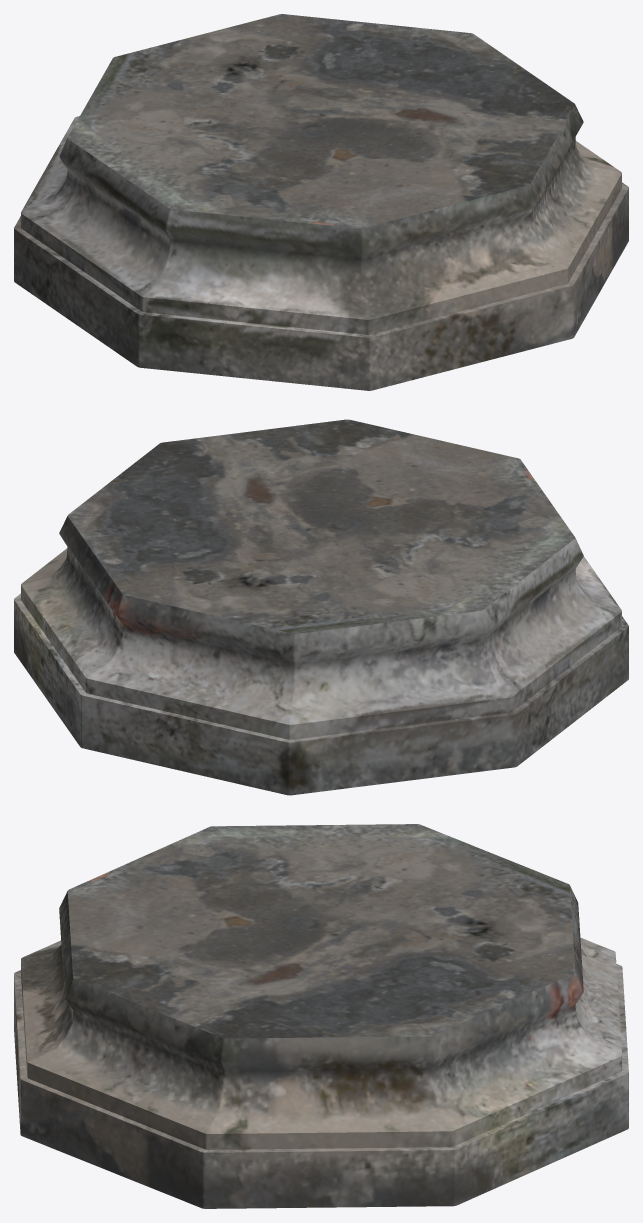
The model's file is SM_ChapelColumnBase_01_02.fbx.
3 renders of one model, top to bottom at view 1: azimuth 30°, elevation 25°; view 2: azimuth 150°, elevation 25°; view 3: azimuth 270°, elevation 25°, orthographic. The views are drawn at different scales.
Parts seen in each view (by area): view 1: sm_ChapelColumnBase_01_02_LOD0; view 2: sm_ChapelColumnBase_01_02_LOD0; view 3: sm_ChapelColumnBase_01_02_LOD0.
Part boxes in pixels (<box>): sm_ChapelColumnBase_01_02_LOD0: <box>14,14,628,390</box>; sm_ChapelColumnBase_01_02_LOD0: <box>14,419,628,795</box>; sm_ChapelColumnBase_01_02_LOD0: <box>14,824,628,1208</box>.
Bounding box in the file's own units: 94.56 × 94.56 × 25.06.
